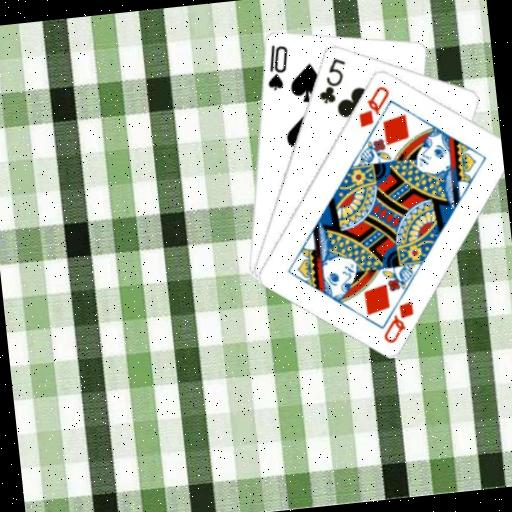10S: (260, 40, 293, 93)
5C: (312, 54, 351, 106)
QD: (377, 297, 419, 346), (352, 82, 394, 130)
